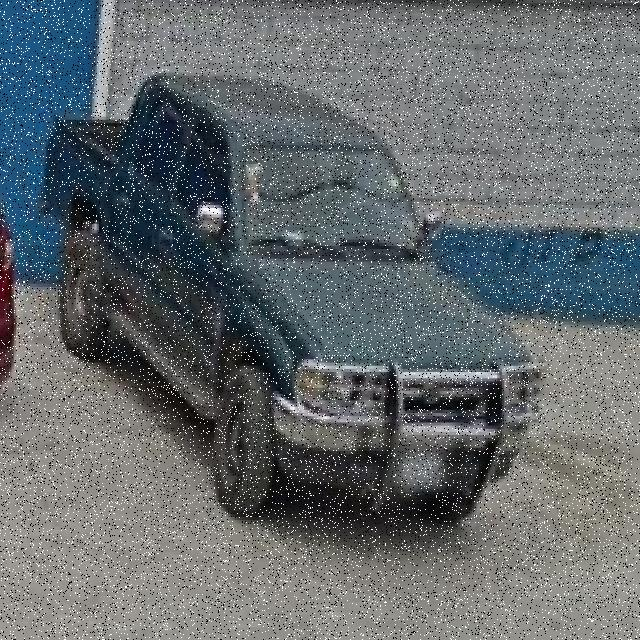cars: (42, 48, 486, 543)
